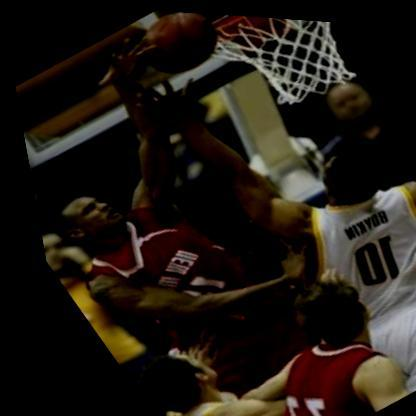basketball: (119, 6, 235, 86)
